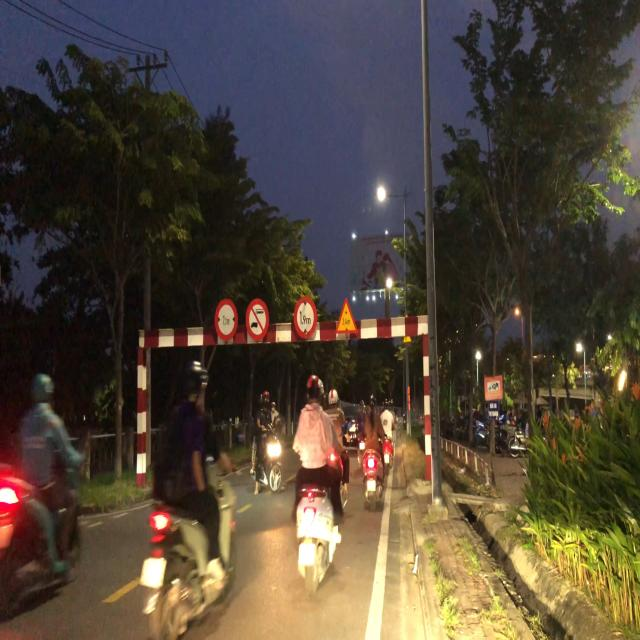Bien bao cam xe oto khach va xe oto tai: (246, 296, 270, 343)
Bien bao chieu cao tinh khong thuc te: (335, 295, 359, 338)
Bien bao han che chieu cao: (292, 295, 320, 342)
